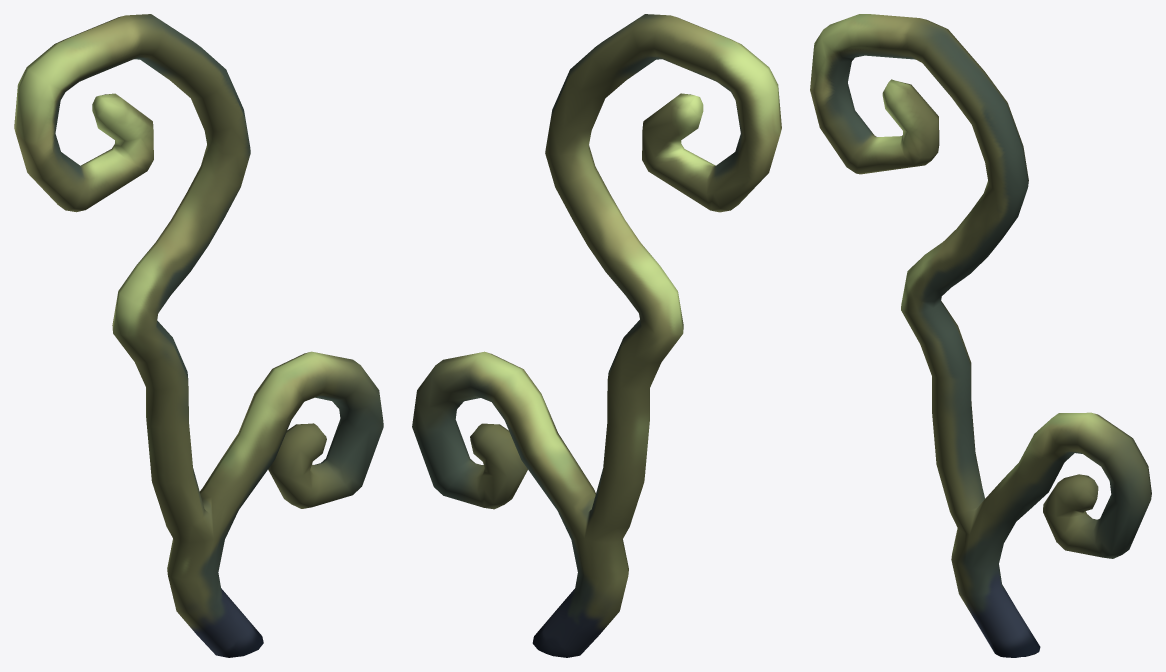
File: Bracken_T_01.FBX
3 renders of one model, left to right at view 1: azimuth 30°, elevation 25°; view 2: azimuth 150°, elevation 25°; view 3: azimuth 330°, elevation 25°, orthographic. The views are drawn at different scales.
Visible parts, largest first — view 1: Line001; view 2: Line001; view 3: Line001.
Part boxes in pixels (box(x1,y1,x2,y2)): Line001: box(14, 14, 383, 657); Line001: box(412, 14, 781, 657); Line001: box(810, 14, 1151, 657).
Size of the model in its own units: 72.54 by 127 by 8.67.
